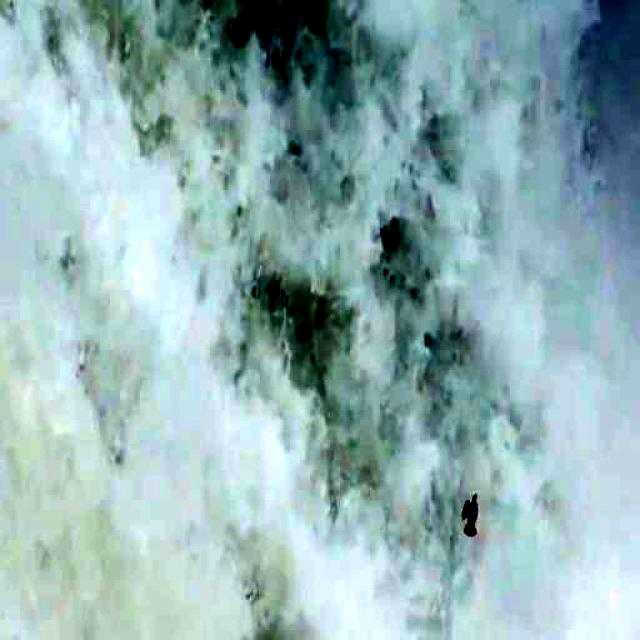airplane: (454, 484, 488, 564)
